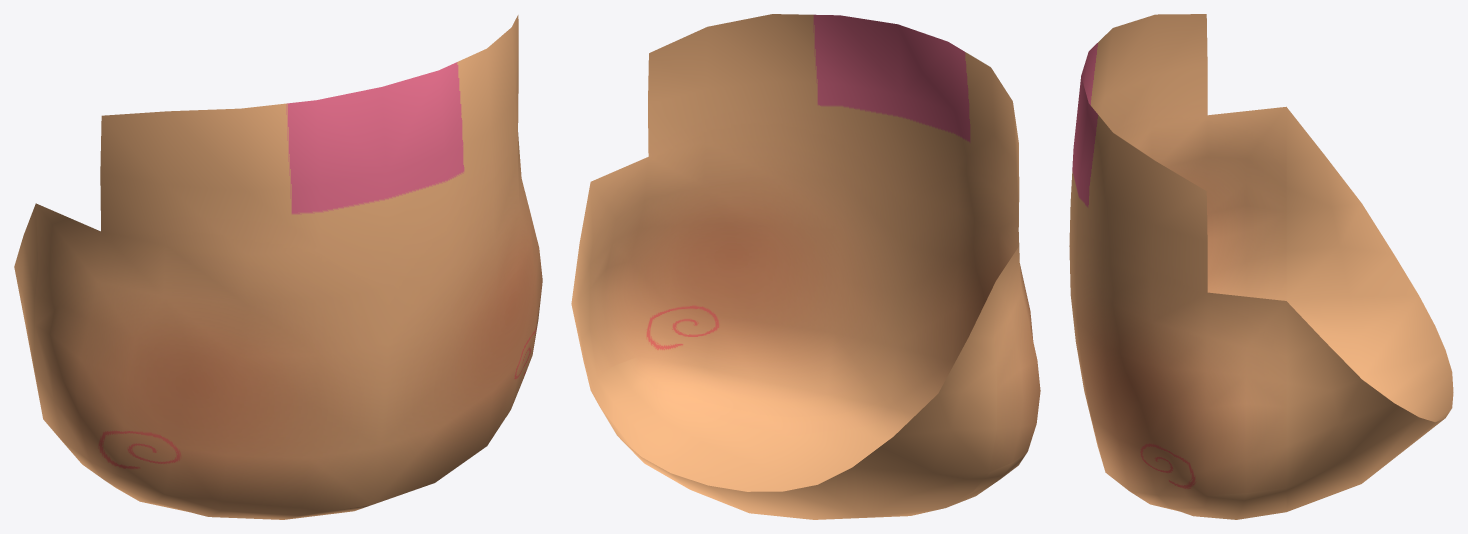
The model's file is Faceline_3.glb.
3 views of the same model, side by side, from view 1: azimuth 30°, elevation 25°; view 2: azimuth 150°, elevation 25°; view 3: azimuth 270°, elevation 25° (orthographic). The views are drawn at different scales.
Parts seen in each view (by area): view 1: Head03; view 2: Head03; view 3: Head03.
Part boxes in pixels (x1=…): Head03: x1=14, y1=15, x2=542, y2=519; Head03: x1=571, y1=14, x2=1040, y2=519; Head03: x1=1069, y1=14, x2=1453, y2=519.
Bounding box in the file's own units: 54.33 × 51.02 × 43.94.
Materials: 1 (1 with a texture image).
